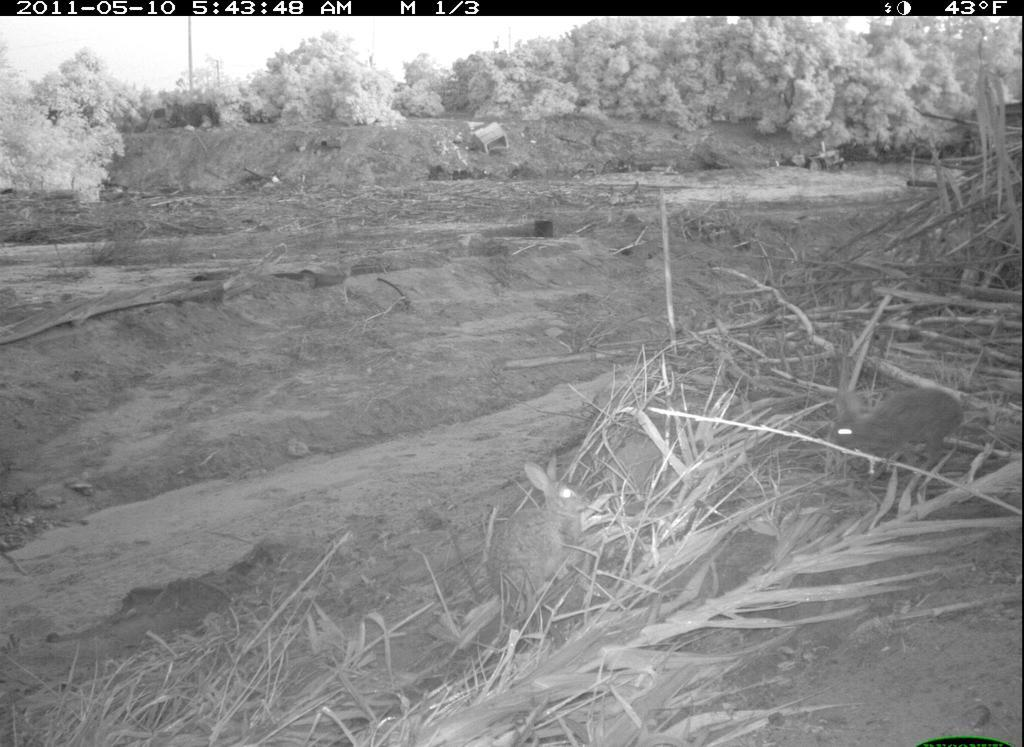rabbit: (816, 355, 973, 484), (472, 454, 593, 615)
